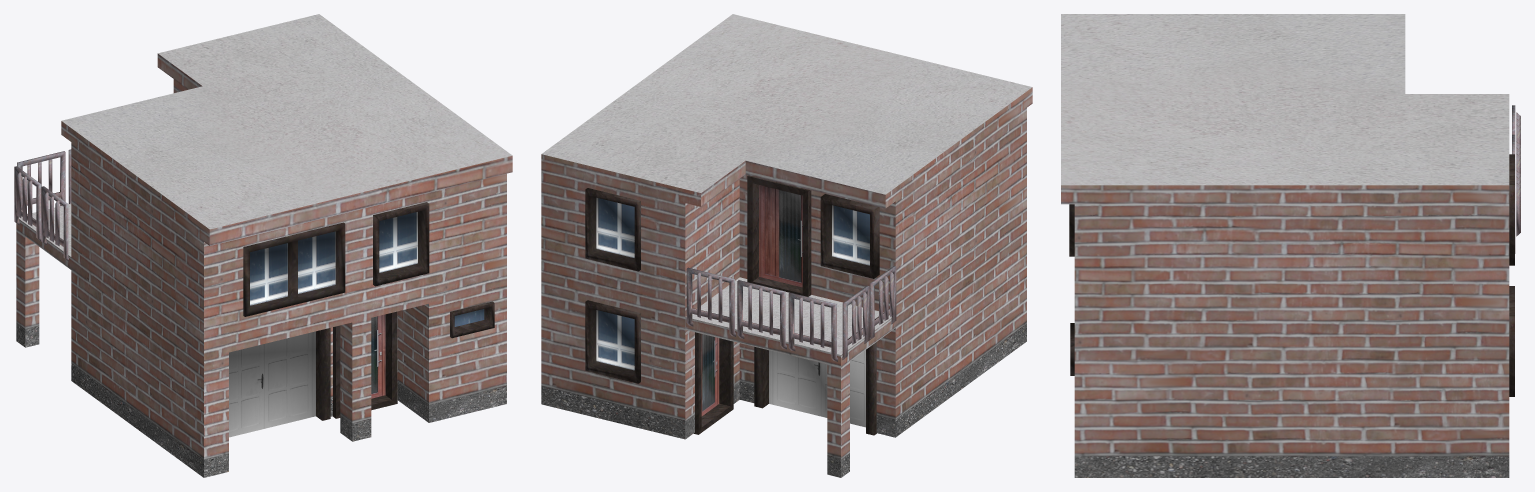
File: family_house_05.glb
The picture shows the model from 3 angles, left to right: view 1: azimuth 30°, elevation 25°; view 2: azimuth 150°, elevation 25°; view 3: azimuth 270°, elevation 25°; orthographic projection. The views are drawn at different scales.
Visible parts, largest first — view 1: house6_baked_Cube.071; view 2: house6_baked_Cube.071; view 3: house6_baked_Cube.071.
Part boxes in pixels (box(x1,y1,x2,y2)): house6_baked_Cube.071: box(14, 14, 512, 477); house6_baked_Cube.071: box(541, 14, 1032, 477); house6_baked_Cube.071: box(1061, 14, 1520, 477).
Bounding box in the file's own units: 2.02 × 1.58 × 2.23.
Materials: 1 (1 with a texture image).
